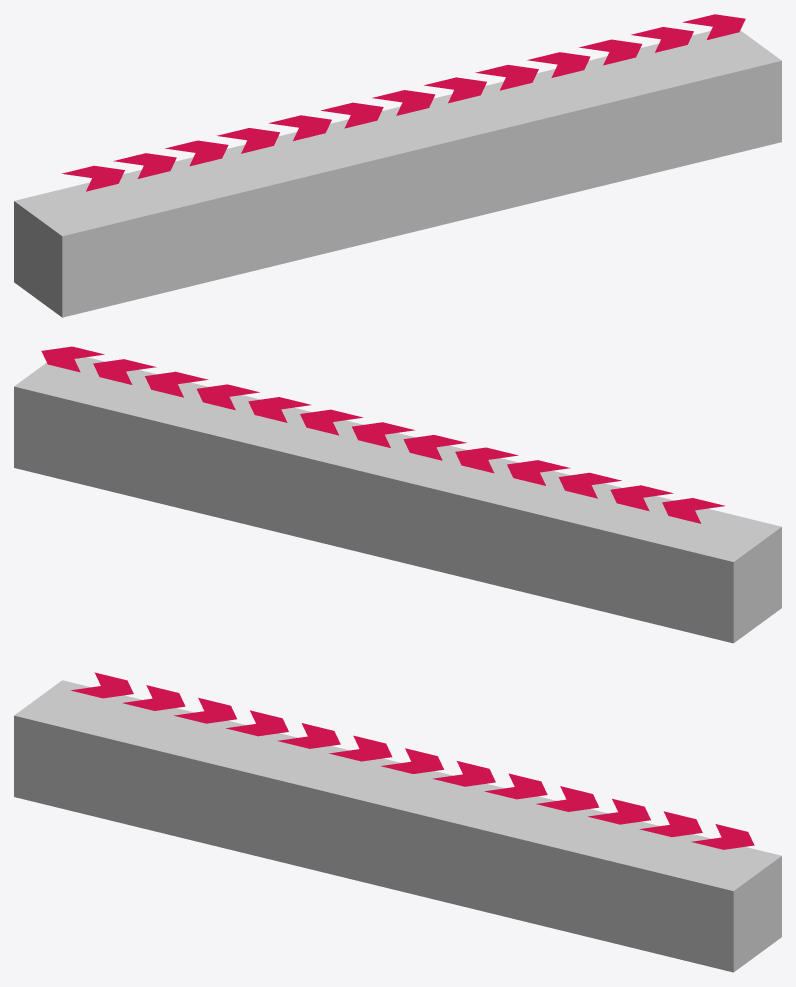
The picture shows the model from 3 angles, top to bottom: view 1: azimuth 30°, elevation 25°; view 2: azimuth 150°, elevation 25°; view 3: azimuth 330°, elevation 25°; orthographic projection.
Visible parts, largest first — view 1: 立方体, 平面; view 2: 立方体, 平面; view 3: 立方体, 平面.
Boxes of the visible parts, x1=… form: 立方体: x1=14, y1=30, x2=781, y2=317; 平面: x1=62, y1=14, x2=745, y2=191; 立方体: x1=14, y1=357, x2=781, y2=643; 平面: x1=41, y1=346, x2=724, y2=523; 立方体: x1=14, y1=680, x2=781, y2=972; 平面: x1=70, y1=672, x2=754, y2=849.
Size of the model in its own units: 271 by 37.59 by 31.58.
